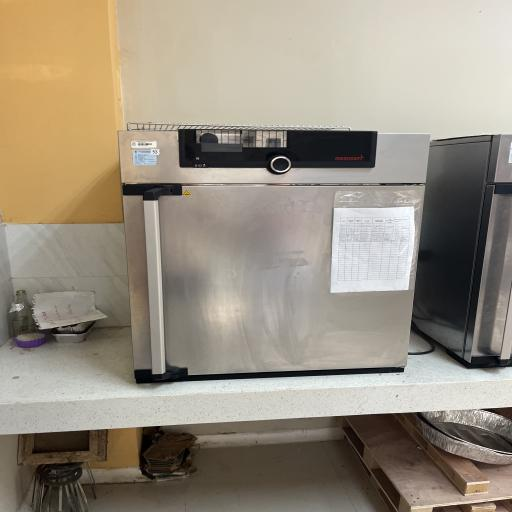Memmert_Unidad2: (112, 113, 438, 391)
